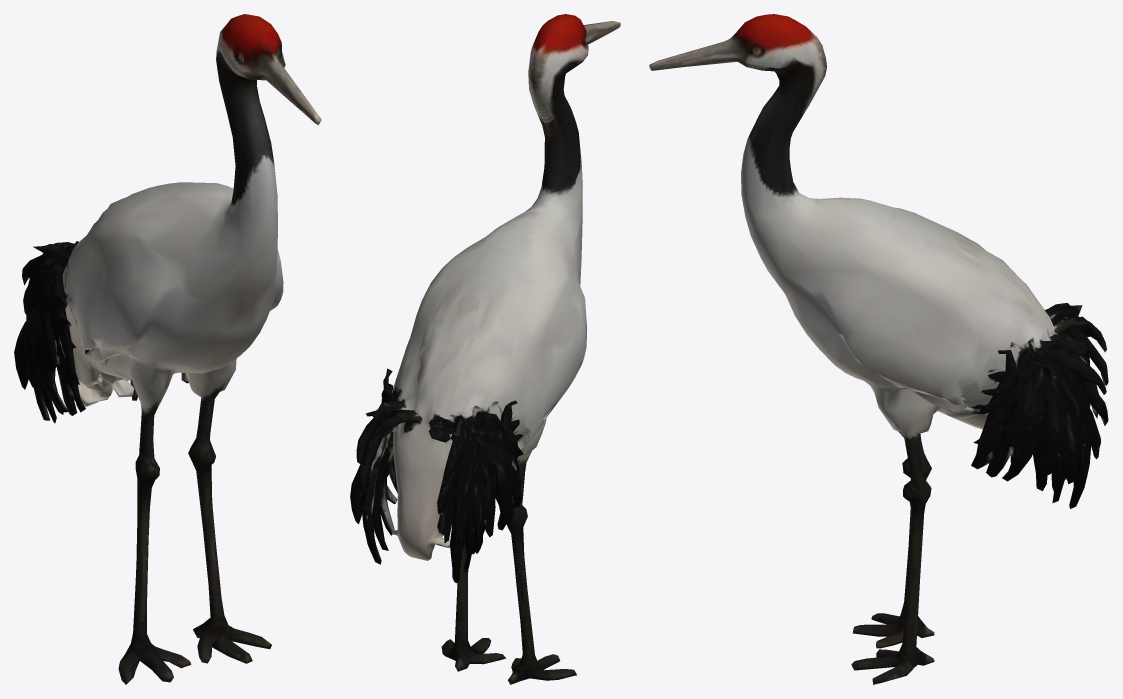
The model's file is xianhe2.glb.
3 views of the same model, side by side, from view 1: azimuth 30°, elevation 25°; view 2: azimuth 150°, elevation 25°; view 3: azimuth 270°, elevation 25° (orthographic). The views are drawn at different scales.
Visible parts, largest first — view 1: tripo_node_25b48893-4808-41fb-a1ce-5ce5ff629a8d; view 2: tripo_node_25b48893-4808-41fb-a1ce-5ce5ff629a8d; view 3: tripo_node_25b48893-4808-41fb-a1ce-5ce5ff629a8d.
Part boxes in pixels (box(x1,y1,x2,y2)): tripo_node_25b48893-4808-41fb-a1ce-5ce5ff629a8d: box(14, 14, 321, 684); tripo_node_25b48893-4808-41fb-a1ce-5ce5ff629a8d: box(350, 14, 620, 684); tripo_node_25b48893-4808-41fb-a1ce-5ce5ff629a8d: box(649, 14, 1108, 684).
Bounding box in the file's own units: 0.2389 × 1 × 0.653.
1 material, 1 textured.
